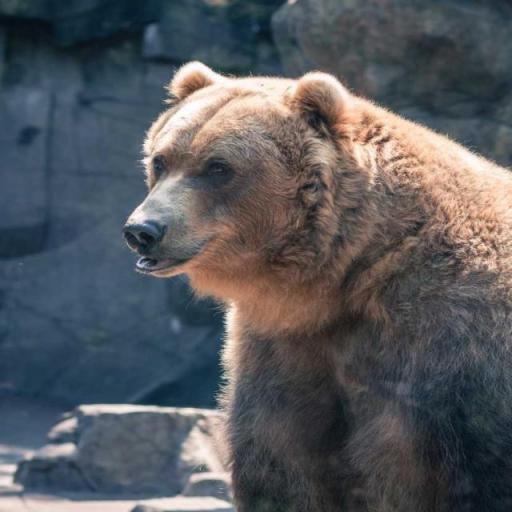Bear: (120, 59, 511, 511)
